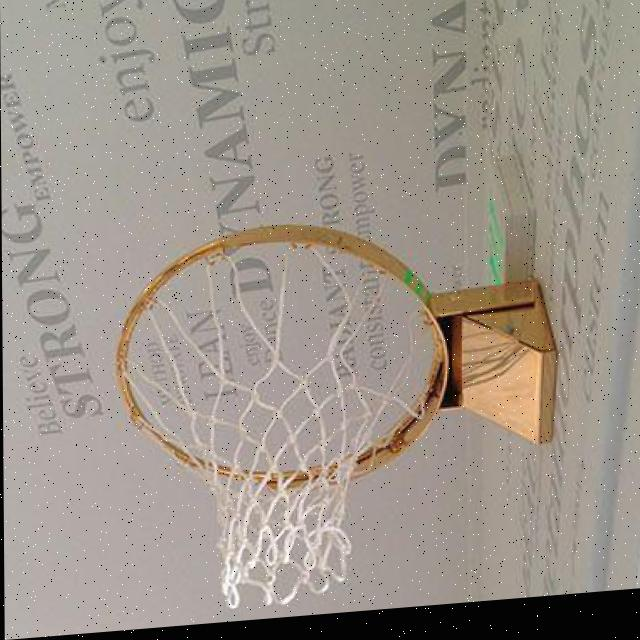hoop: (59, 251, 501, 590)
